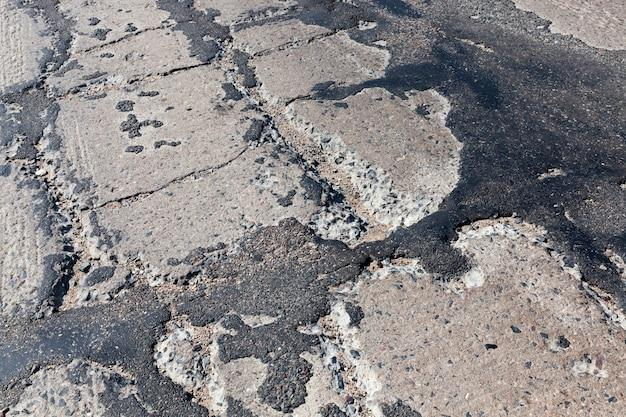alligator-crack: (0, 10, 615, 417)
